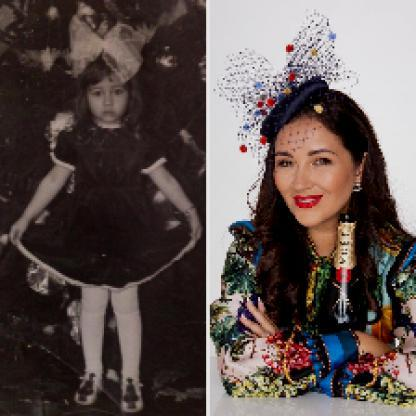child: (9, 16, 204, 416)
